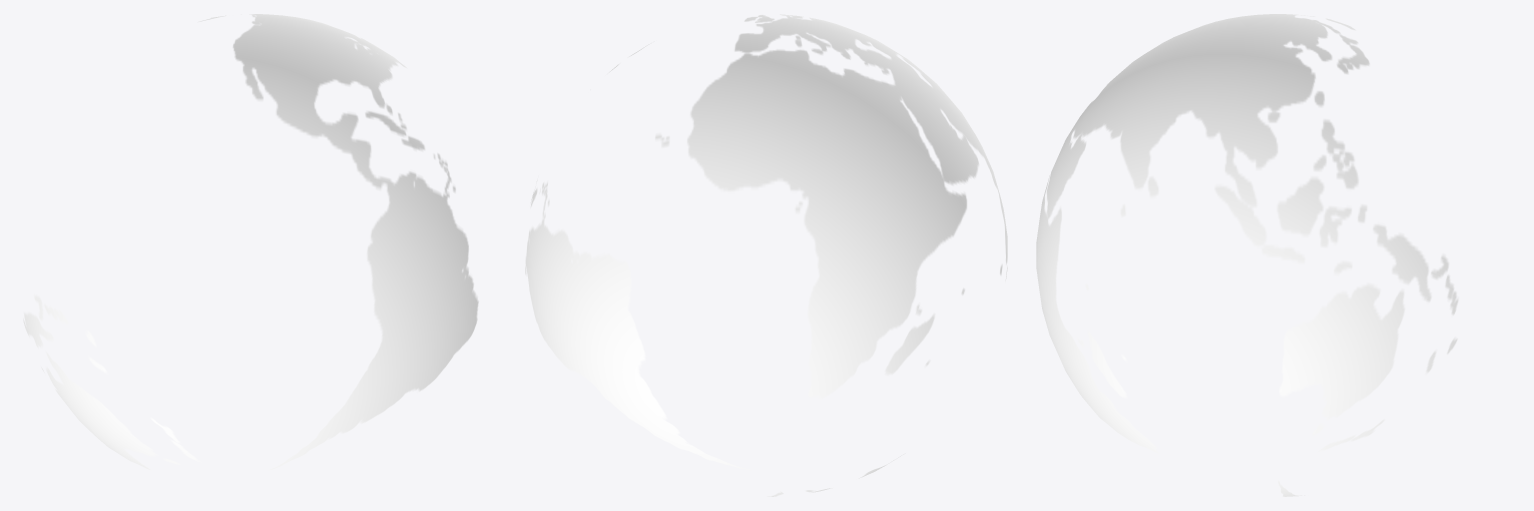
File: earth.glb
3 views of the same model, side by side, from view 1: azimuth 30°, elevation 25°; view 2: azimuth 150°, elevation 25°; view 3: azimuth 270°, elevation 25° (orthographic).
Visible parts, largest first — view 1: Object_2; view 2: Object_2; view 3: Object_2.
Boxes of the visible parts, <box> form: Object_2: <box>23,14,478,470</box>; Object_2: <box>525,14,1007,496</box>; Object_2: <box>1036,14,1458,496</box>.
Size of the model in its own units: 1.99 by 2 by 2.
1 material, 1 textured.
